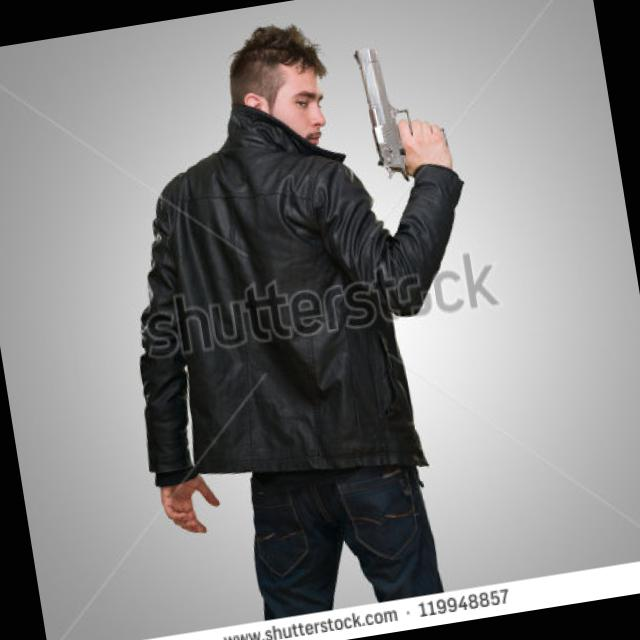handgun: (346, 33, 457, 180)
